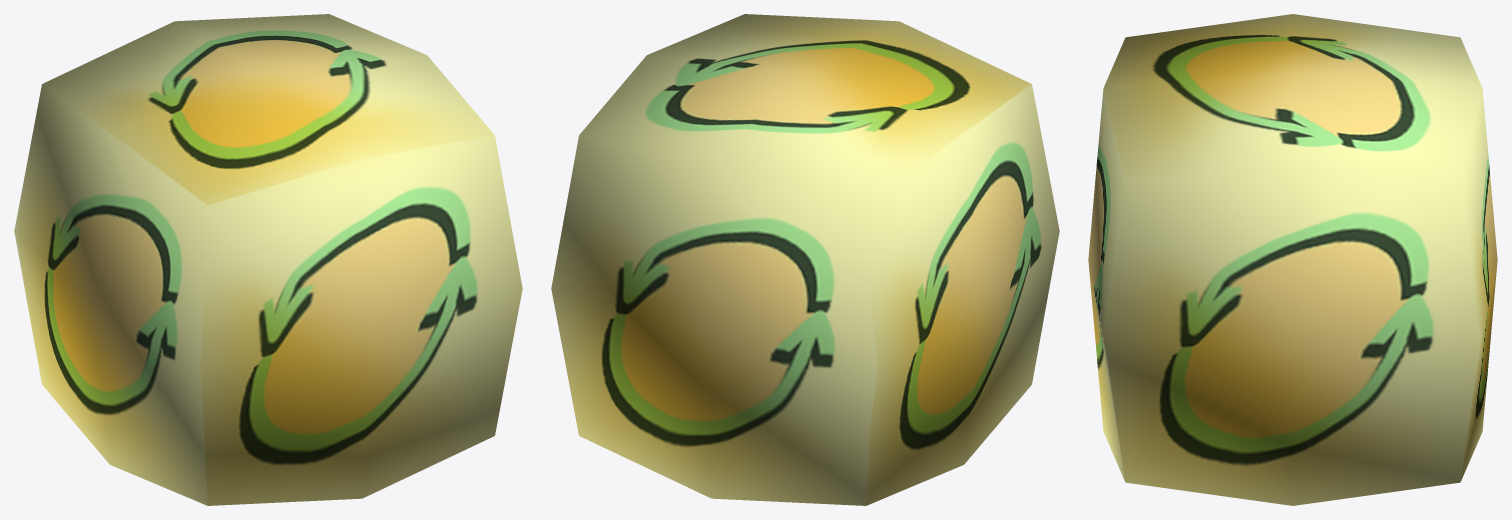
The model's file is AgainDice.fbx.
The picture shows the model from 3 angles, left to right: view 1: azimuth 30°, elevation 25°; view 2: azimuth 150°, elevation 25°; view 3: azimuth 270°, elevation 25°; orthographic projection.
Parts seen in each view (by area): view 1: Cube; view 2: Cube; view 3: Cube.
Part boxes in pixels (bbox=[...]): Cube: bbox=[14, 14, 522, 505]; Cube: bbox=[551, 14, 1059, 505]; Cube: bbox=[1088, 14, 1497, 505].
Bounding box in the file's own units: 121 × 121 × 121.
Materials: 1 (1 with a texture image).
